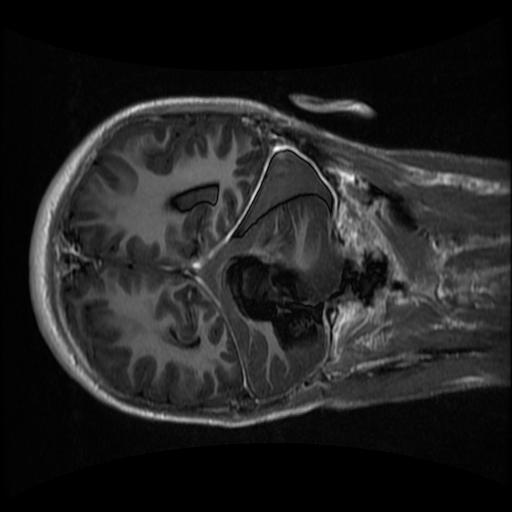glioma: (215, 245, 326, 356)
